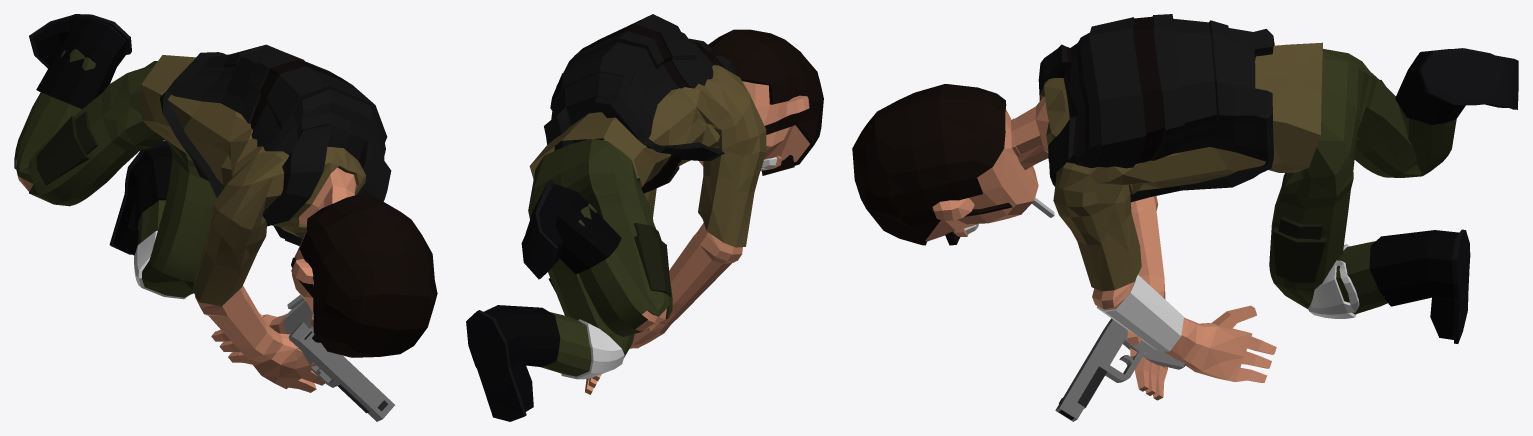
Rendered from frame_0017.obj.
3 renders of one model, left to right at view 1: azimuth 30°, elevation 25°; view 2: azimuth 150°, elevation 25°; view 3: azimuth 270°, elevation 25°, orthographic. The views are drawn at different scales.
Parts seen in each view (by area): view 1: Body, Gun; view 2: Body; view 3: Body, Gun.
Boxes of the visible parts, x1,y1,x2,y2 form: Body: [14, 14, 437, 392]; Gun: [288, 322, 394, 421]; Body: [466, 14, 823, 421]; Body: [852, 14, 1518, 400]; Gun: [1055, 318, 1185, 421].
Size of the model in its own units: 1.41 by 2.09 by 3.4.
